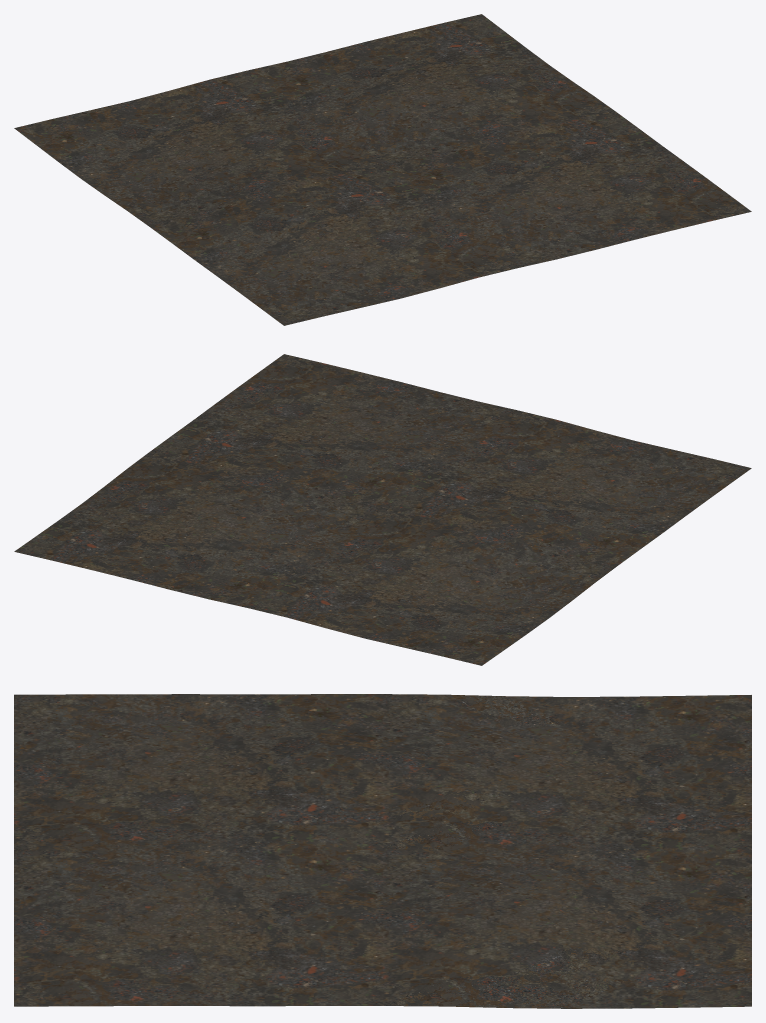
Rendered from BasementFloorPbr.glb.
The picture shows the model from 3 angles, top to bottom: view 1: azimuth 30°, elevation 25°; view 2: azimuth 150°, elevation 25°; view 3: azimuth 270°, elevation 25°; orthographic projection. The views are drawn at different scales.
Visible parts, largest first — view 1: Basement_Corridor_B_Floor_4x4m; view 2: Basement_Corridor_B_Floor_4x4m; view 3: Basement_Corridor_B_Floor_4x4m.
Part boxes in pixels (bbox=[...]): Basement_Corridor_B_Floor_4x4m: bbox=[14, 14, 751, 325]; Basement_Corridor_B_Floor_4x4m: bbox=[14, 354, 751, 665]; Basement_Corridor_B_Floor_4x4m: bbox=[14, 694, 751, 1008].
Bounding box in the file's own units: 4 × 0.1098 × 4.
Materials: 1 (1 with a texture image).
